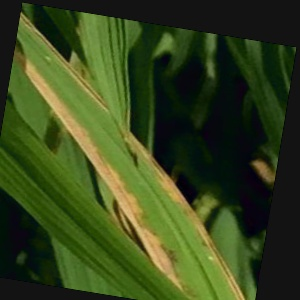Leaf_Blast: (114, 140, 202, 285)
